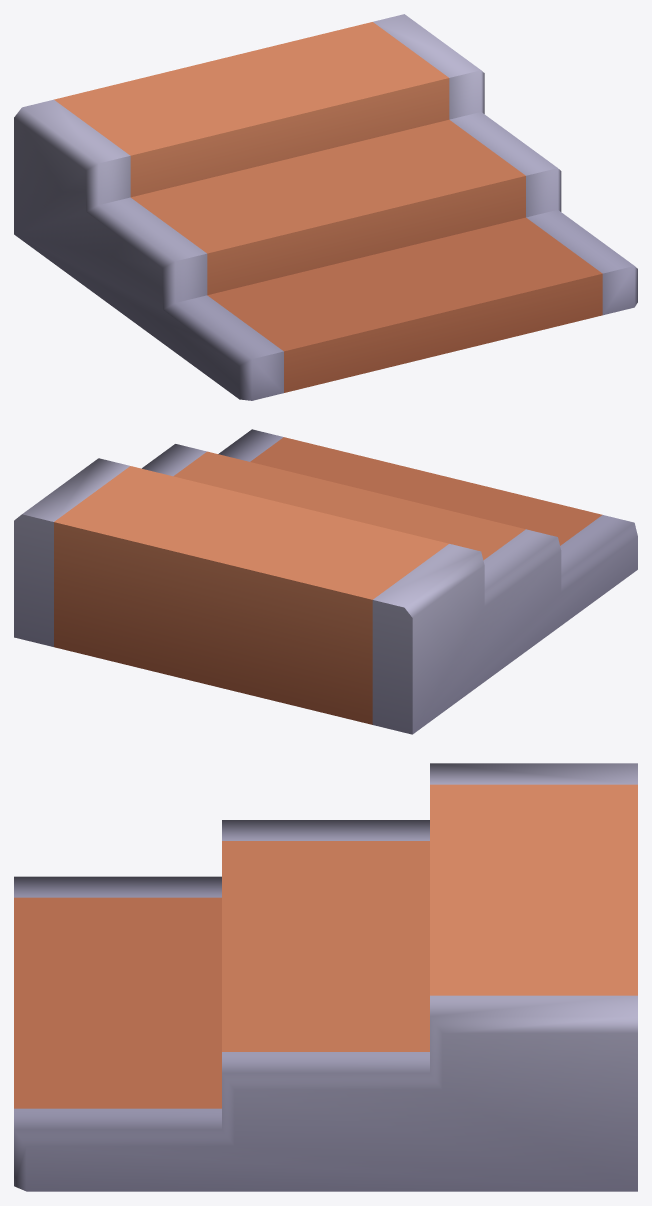
The model's file is mini-skate--steps.glb.
The picture shows the model from 3 angles, top to bottom: view 1: azimuth 30°, elevation 25°; view 2: azimuth 150°, elevation 25°; view 3: azimuth 270°, elevation 25°; orthographic projection. The views are drawn at different scales.
Parts seen in each view (by area): view 1: steps; view 2: steps; view 3: steps.
Part boxes in pixels (<box>): steps: <box>14,14,637,400</box>; steps: <box>14,429,637,734</box>; steps: <box>14,763,637,1191</box>.
Bounding box in the file's own units: 1 × 0.3 × 1.
Materials: 1 (1 with a texture image).
